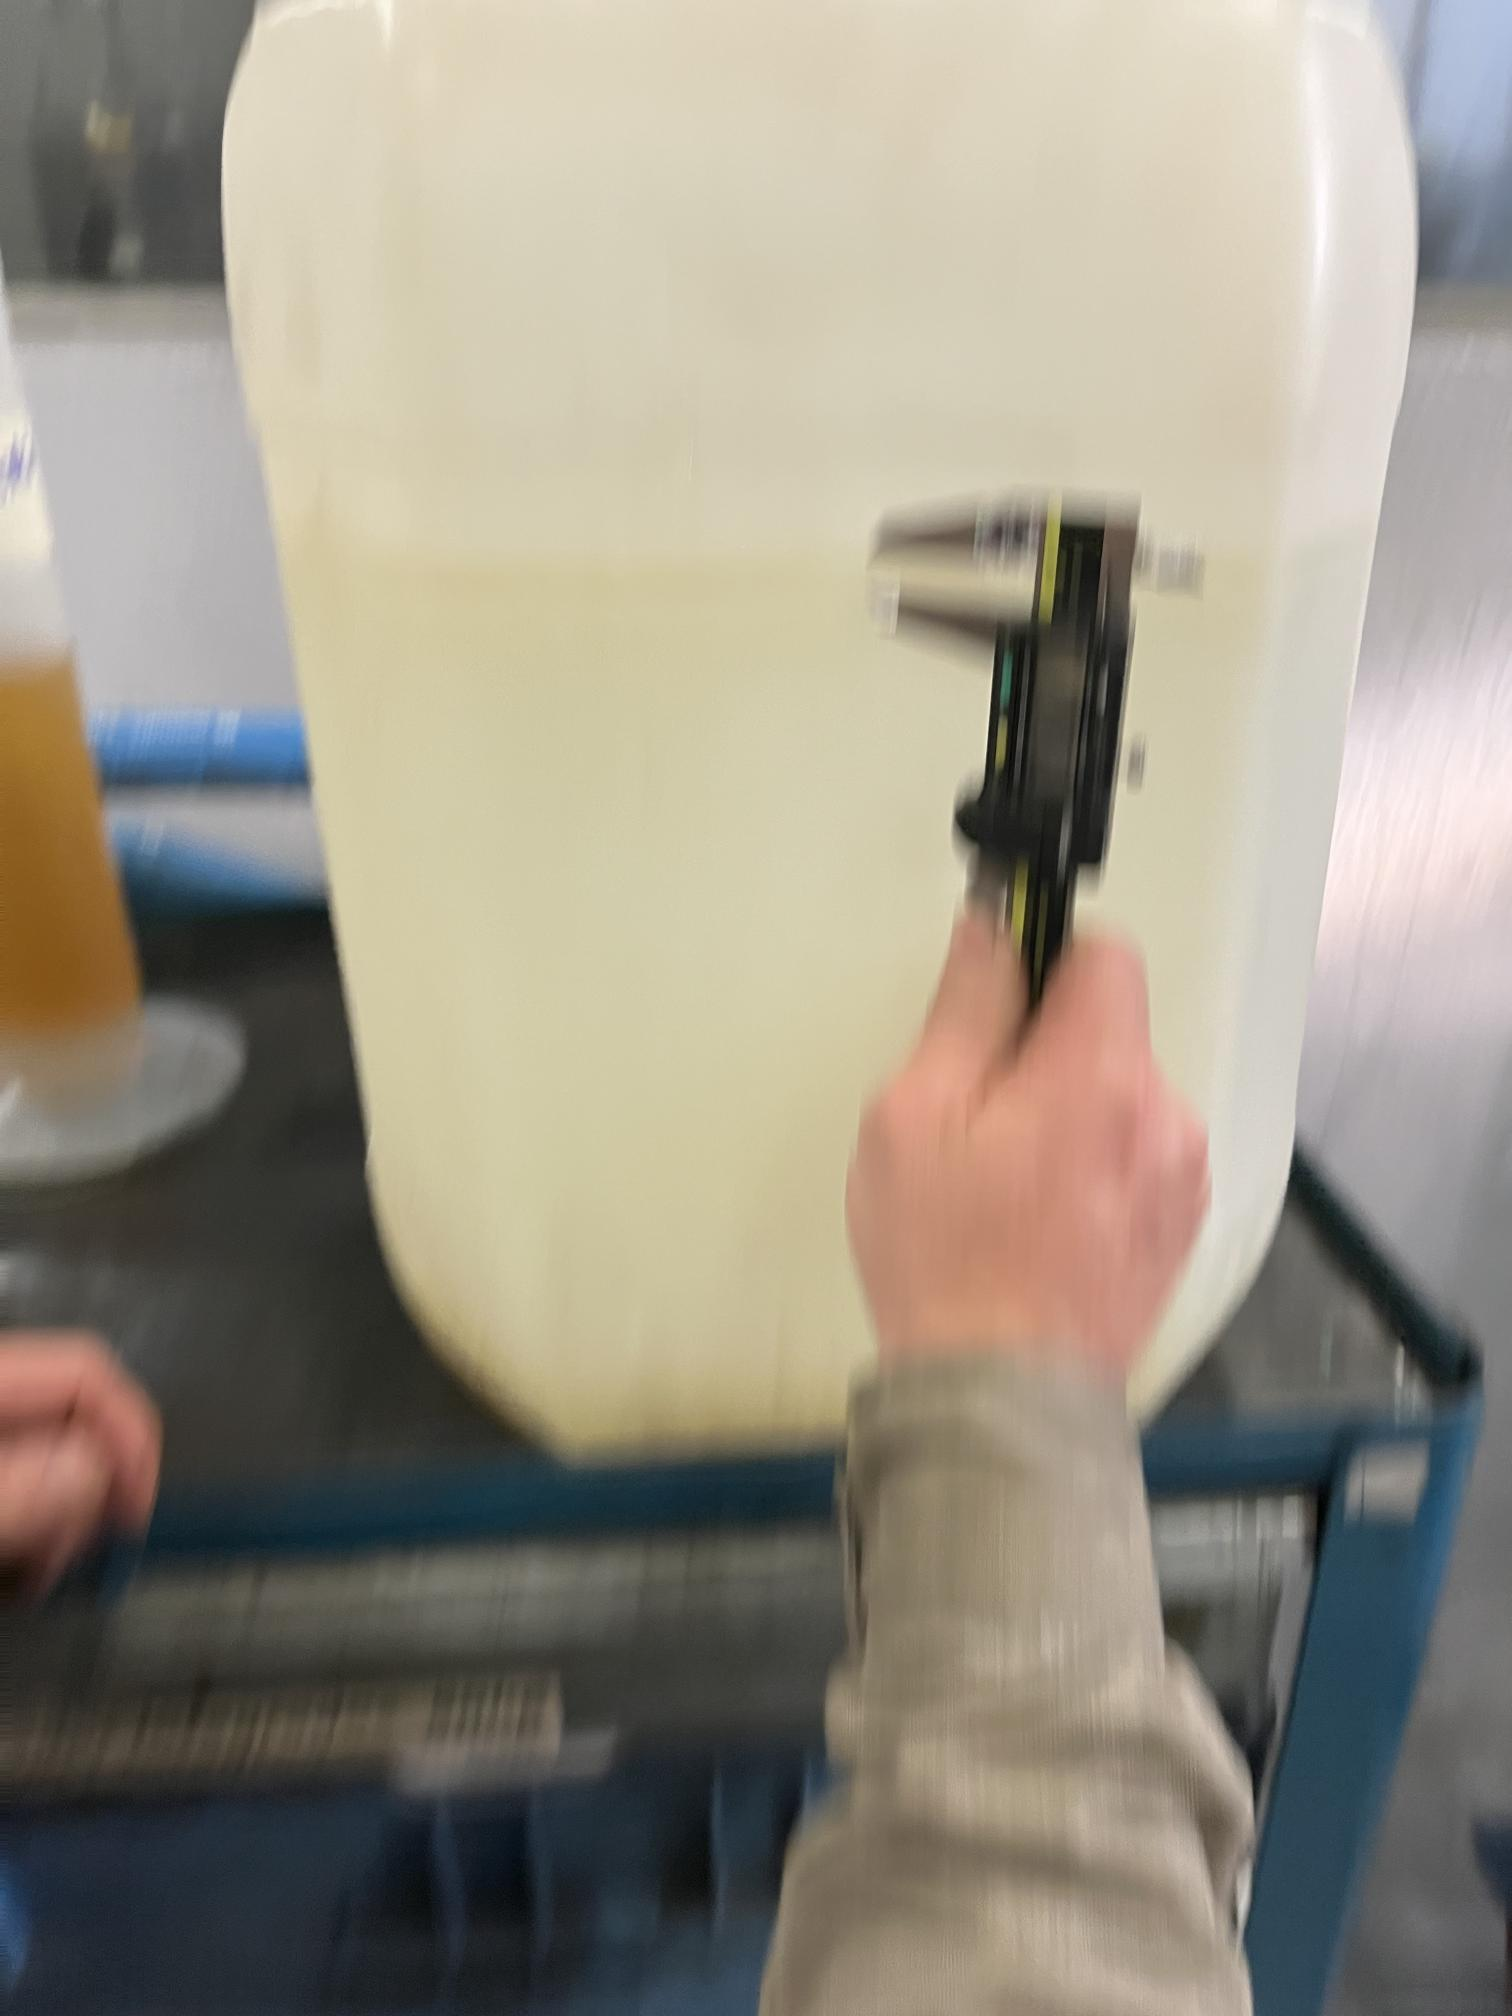Galao: (210, 40, 1380, 1400)
